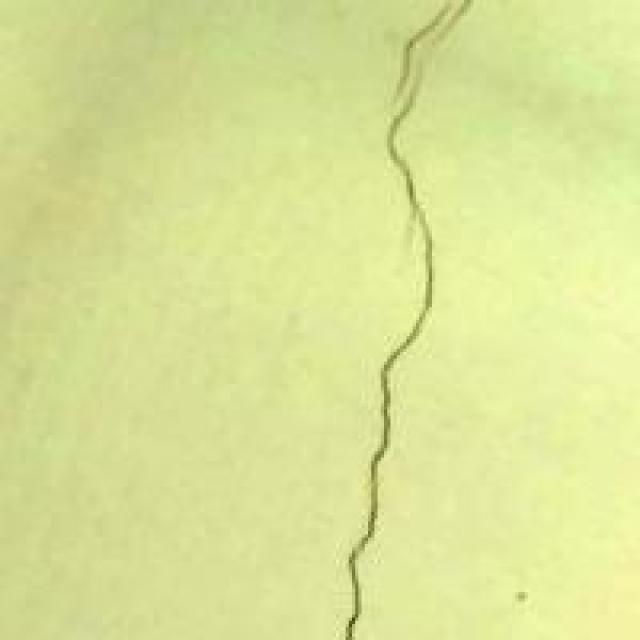Crack: (329, 0, 476, 637)
